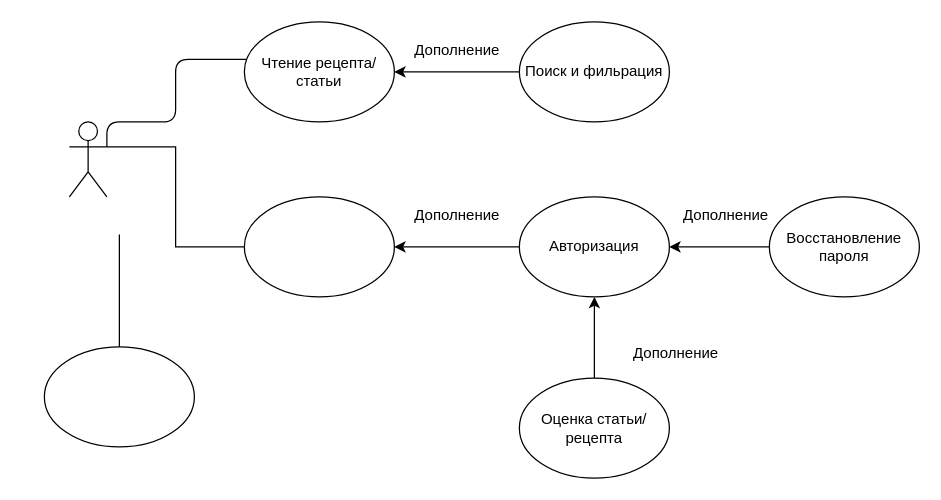
Image size: 941x500. Some labels were removed from this diagram. The centre of each missing label's shape, as x and y in pixels:
"Комментирование статьи/рецепта" belongs at point (118, 396).
"Неавторизованный пользователь" belongs at point (87, 159).
"Регистрация" belongs at point (318, 246).
